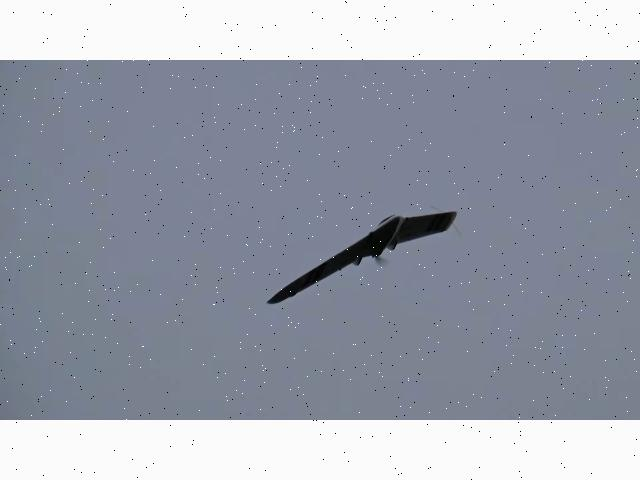Anti-Drone: (268, 212, 456, 305)
